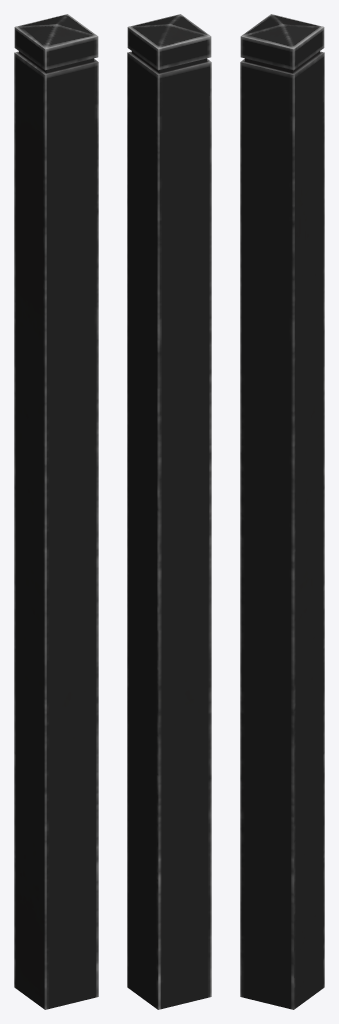
File: SM_ParkFence_Gates_DMini.fbx
The picture shows the model from 3 angles, left to right: view 1: azimuth 30°, elevation 25°; view 2: azimuth 210°, elevation 25°; view 3: azimuth 330°, elevation 25°; orthographic projection.
Parts seen in each view (by area): view 1: SM_ParkFence_Gates_DMini; view 2: SM_ParkFence_Gates_DMini; view 3: SM_ParkFence_Gates_DMini.
Part boxes in pixels (x1,y1,x2,y2): SM_ParkFence_Gates_DMini: (14, 14, 98, 1009); SM_ParkFence_Gates_DMini: (127, 14, 211, 1009); SM_ParkFence_Gates_DMini: (240, 14, 324, 1009).
Size of the model in its own units: 3.6 by 3.6 by 62.11.
Materials: 1 (1 with a texture image).
